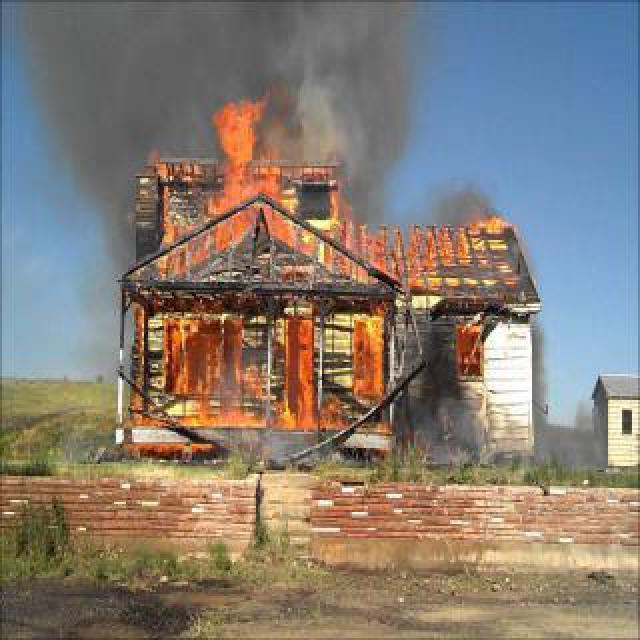Fire: (116, 226, 506, 420), (146, 158, 342, 228), (216, 80, 274, 160), (124, 436, 216, 462)
Smoke: (16, 2, 214, 160), (526, 318, 596, 474), (220, 422, 346, 482), (396, 416, 502, 474), (420, 174, 498, 234)
